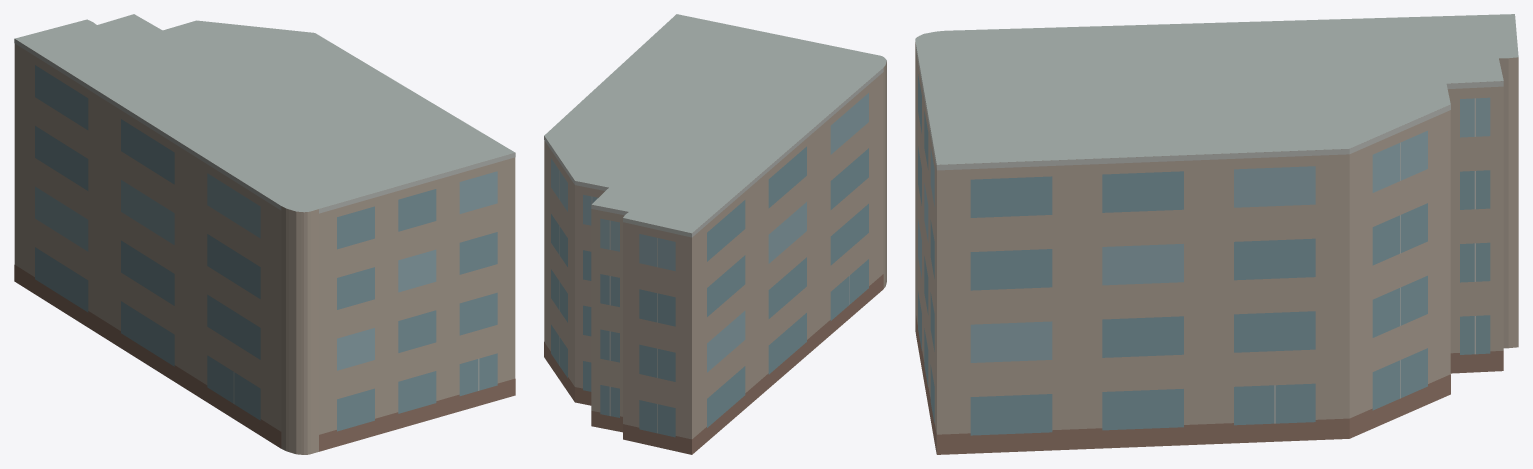
File: survey-upis-32782243.glb
The picture shows the model from 3 angles, left to right: view 1: azimuth 30°, elevation 25°; view 2: azimuth 150°, elevation 25°; view 3: azimuth 270°, elevation 25°; orthographic projection. The views are drawn at different scales.
Visible parts, largest first — view 1: survey-upis-32782243.tmp; view 2: survey-upis-32782243.tmp; view 3: survey-upis-32782243.tmp.
Boxes of the visible parts, x1,y1,x2,y2 form: survey-upis-32782243.tmp: [14, 14, 515, 454]; survey-upis-32782243.tmp: [544, 14, 886, 454]; survey-upis-32782243.tmp: [915, 14, 1518, 454].
Bounding box in the file's own units: 14.18 × 12.7 × 23.96.
